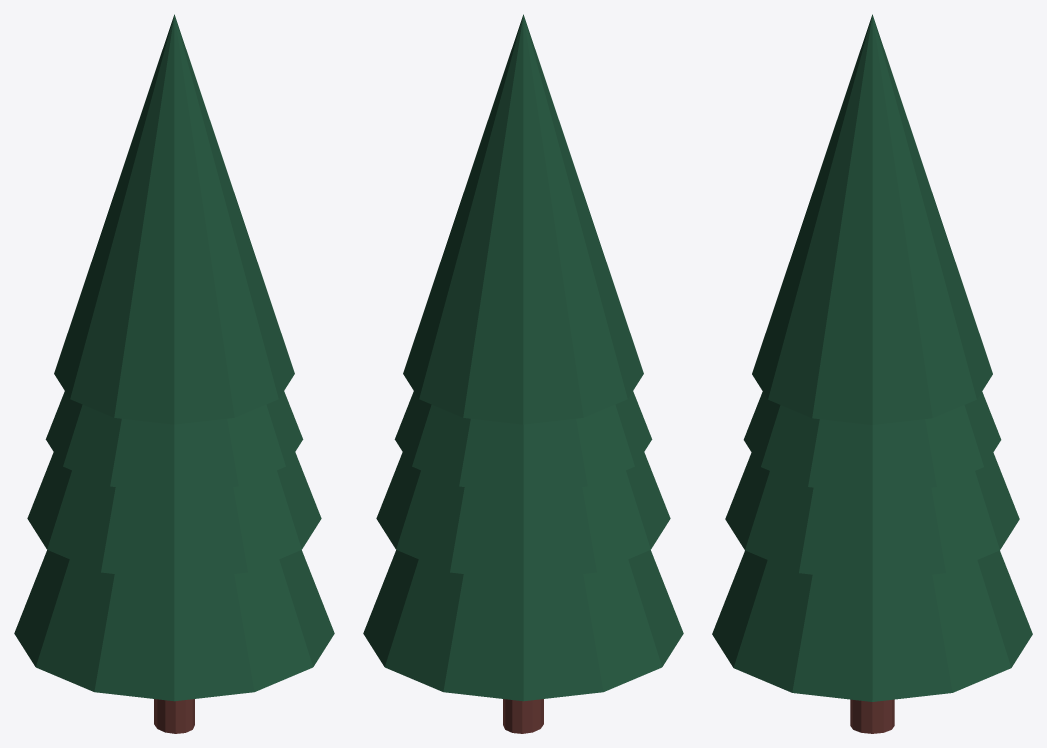
File: PINO2.fbx
3 renders of one model, left to right at view 1: azimuth 30°, elevation 25°; view 2: azimuth 150°, elevation 25°; view 3: azimuth 270°, elevation 25°, orthographic.
Parts seen in each view (by area): view 1: Cylinder; view 2: Cylinder; view 3: Cylinder.
Part boxes in pixels (left/top/right/bottom): Cylinder: left=14, top=14, right=334, bottom=733; Cylinder: left=363, top=14, right=683, bottom=733; Cylinder: left=712, top=14, right=1032, bottom=733.
Bounding box in the file's own units: 548 × 1341 × 548.
1 material, 1 textured.
